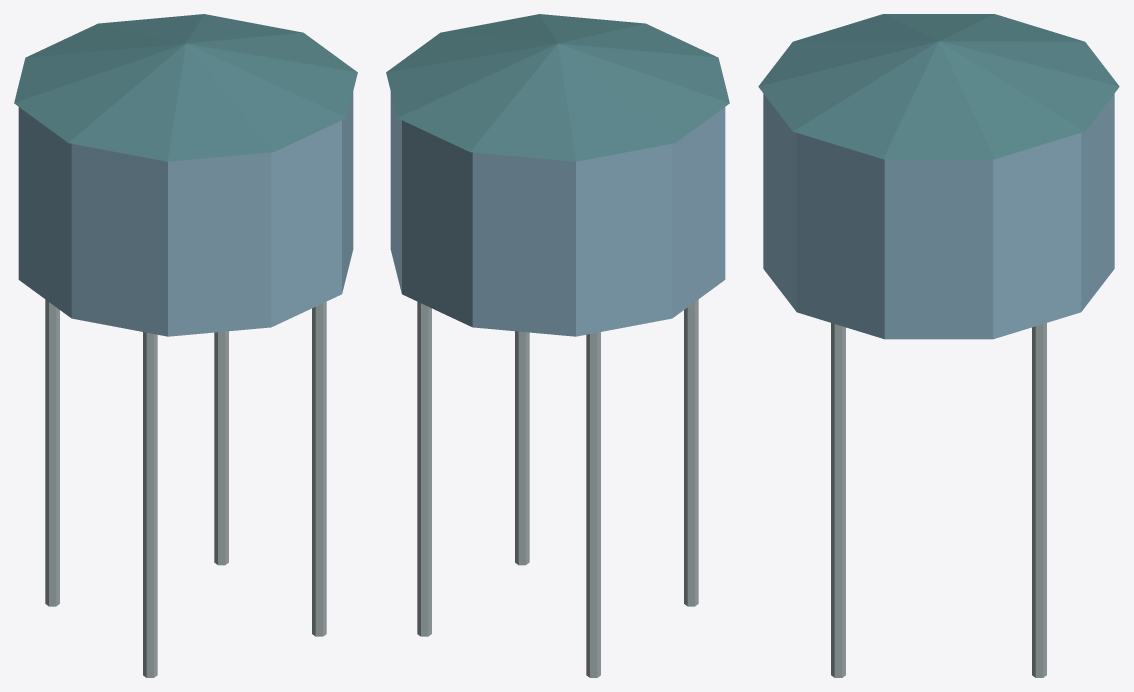
The model's file is water_tower.glb.
3 views of the same model, side by side, from view 1: azimuth 30°, elevation 25°; view 2: azimuth 150°, elevation 25°; view 3: azimuth 270°, elevation 25° (orthographic). The views are drawn at different scales.
Parts seen in each view (by area): view 1: water_tower__water_tank, water_tower__cap, water_tower__leg, water_tower__leg.002, water_tower__leg.001, water_tower__leg.003; view 2: water_tower__water_tank, water_tower__cap, water_tower__leg.001, water_tower__leg.003, water_tower__leg, water_tower__leg.002; view 3: water_tower__water_tank, water_tower__cap, water_tower__leg.002, water_tower__leg.003.
Boxes of the visible parts, x1=… form: water_tower__water_tank: x1=18, y1=92, x2=353, y2=336; water_tower__cap: x1=14, y1=14, x2=357, y2=161; water_tower__leg: x1=143, y1=332, x2=157, y2=677; water_tower__leg.002: x1=312, y1=301, x2=326, y2=636; water_tower__leg.001: x1=45, y1=299, x2=59, y2=606; water_tower__leg.003: x1=214, y1=331, x2=228, y2=565; water_tower__water_tank: x1=390, y1=92, x2=725, y2=336; water_tower__cap: x1=386, y1=14, x2=729, y2=161; water_tower__leg.001: x1=586, y1=332, x2=600, y2=677; water_tower__leg.003: x1=417, y1=301, x2=431, y2=636; water_tower__leg: x1=684, y1=299, x2=698, y2=606; water_tower__leg.002: x1=515, y1=331, x2=529, y2=565; water_tower__water_tank: x1=763, y1=94, x2=1114, y2=339; water_tower__cap: x1=758, y1=14, x2=1119, y2=159; water_tower__leg.002: x1=831, y1=323, x2=845, y2=677; water_tower__leg.003: x1=1032, y1=323, x2=1046, y2=677.
Size of the model in its own units: 6.85 by 13 by 7.2.
